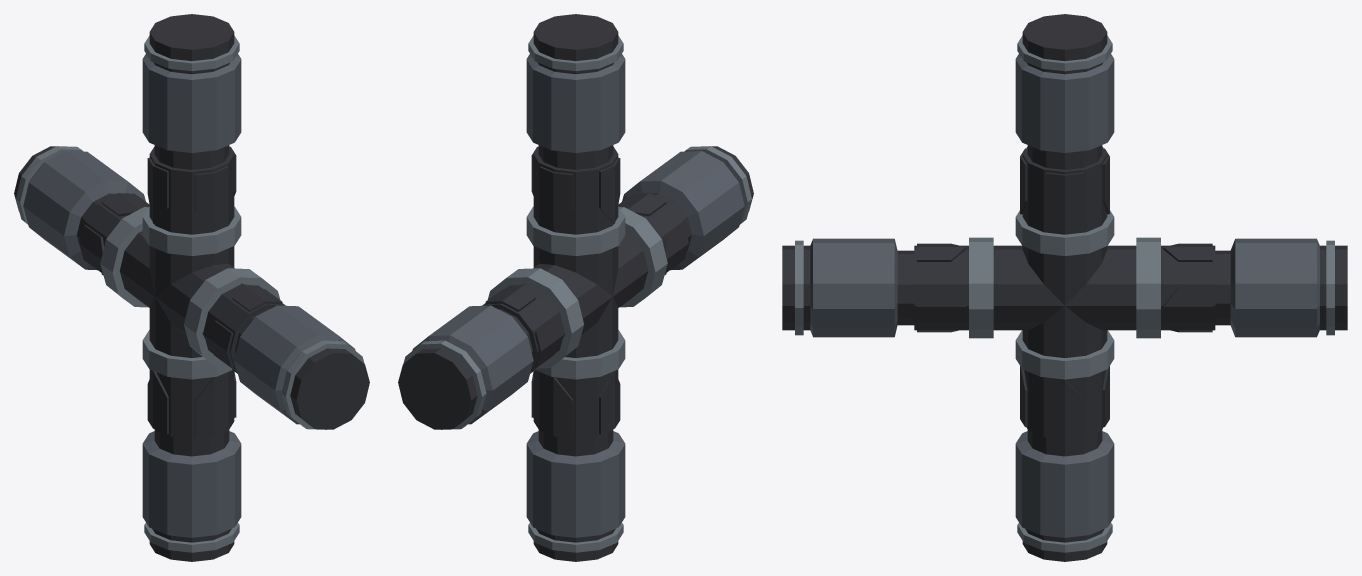
Rendered from SM_X-shaped_electric_pipe.glb.
The picture shows the model from 3 angles, left to right: view 1: azimuth 30°, elevation 25°; view 2: azimuth 150°, elevation 25°; view 3: azimuth 270°, elevation 25°; orthographic projection.
Visible parts, largest first — view 1: SM_X-shaped_electric_pipe; view 2: SM_X-shaped_electric_pipe; view 3: SM_X-shaped_electric_pipe.
Part boxes in pixels (x1,y1,x2,y2): SM_X-shaped_electric_pipe: (14,14,369,561); SM_X-shaped_electric_pipe: (398,14,753,561); SM_X-shaped_electric_pipe: (782,14,1347,561).
Bounding box in the file's own units: 0.3579 × 2 × 2.
1 material, 1 textured.
